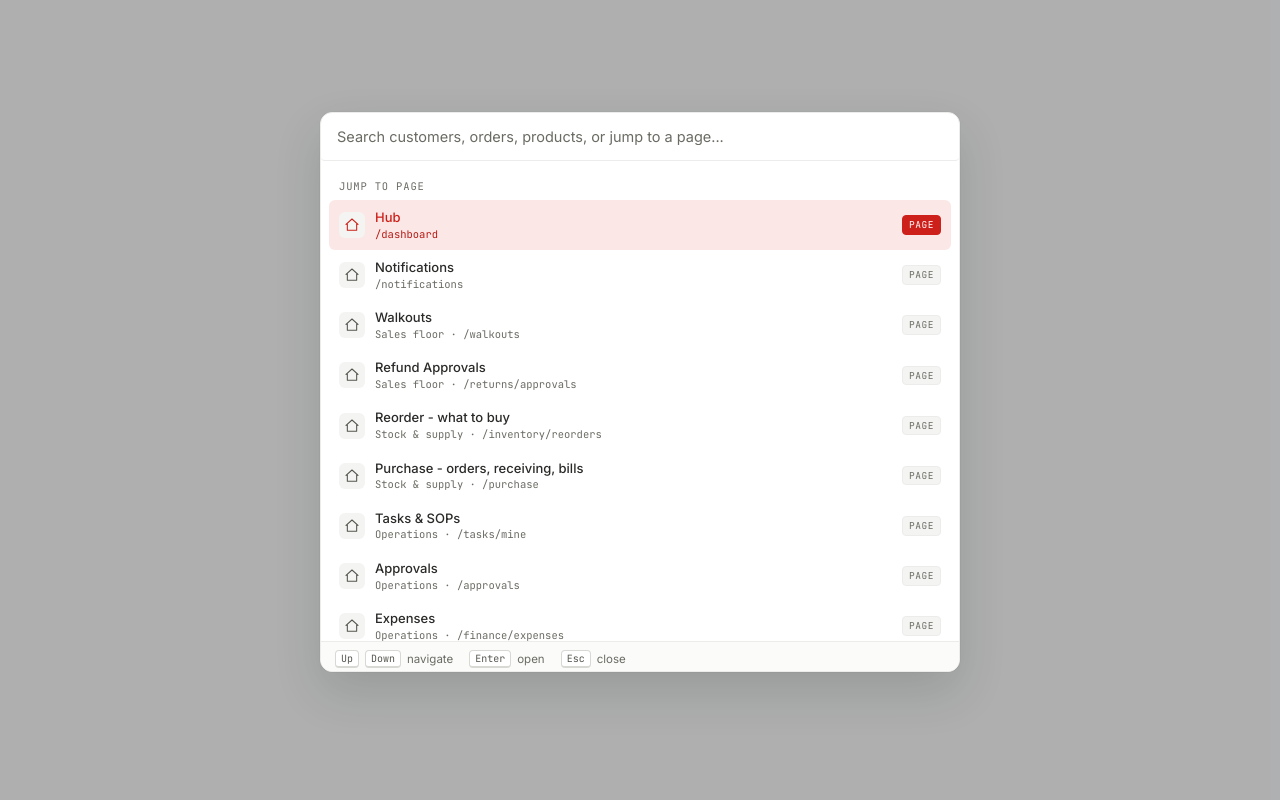
Scenario: CommandPalette - Vendor Returns jump › ACCOUNTANT is offered Vendor Returns
The width and height of the screenshot is (1280, 800).
Type "vendor ret" into the dropdown.
click(640, 137); type("vendor ret")  # box left=321, top=113, right=959, bottom=161
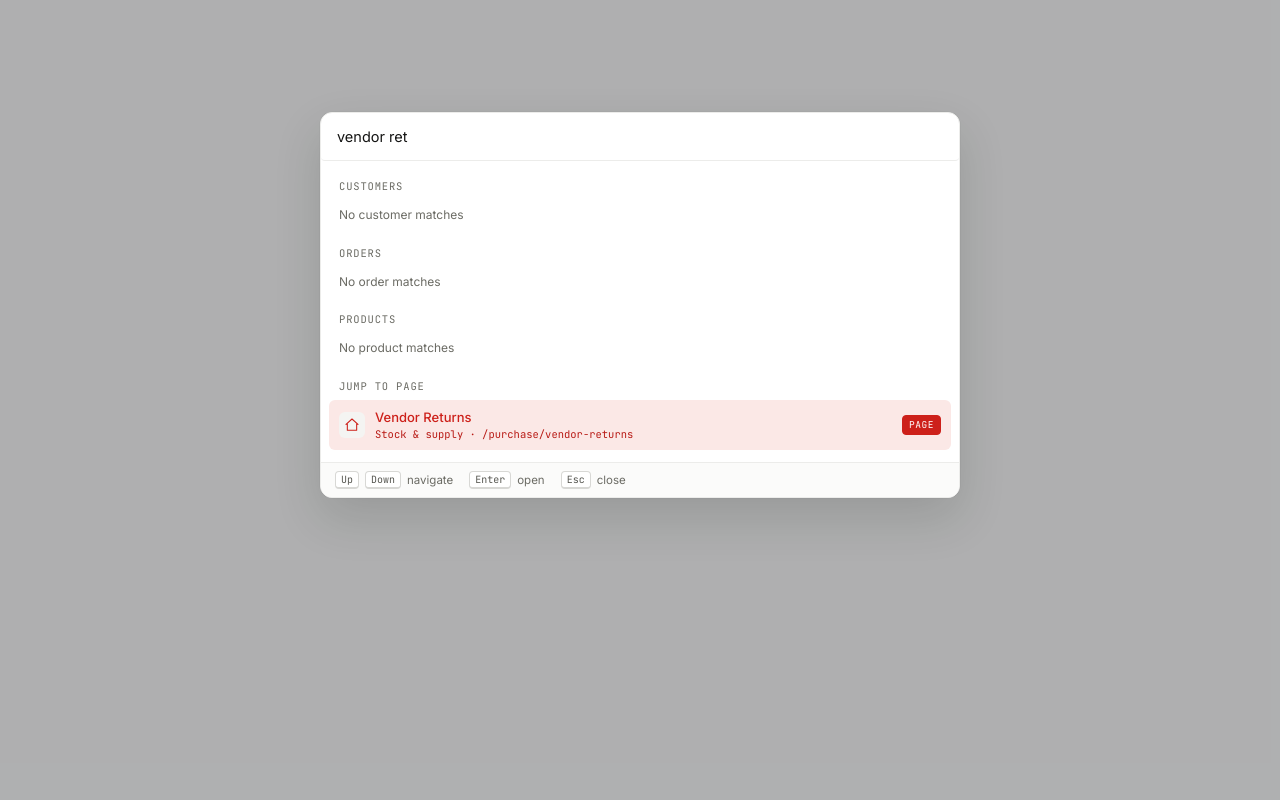
Now the text "/purchase/vendor-returns" is shown, box left=482, top=427, right=633, bottom=441
